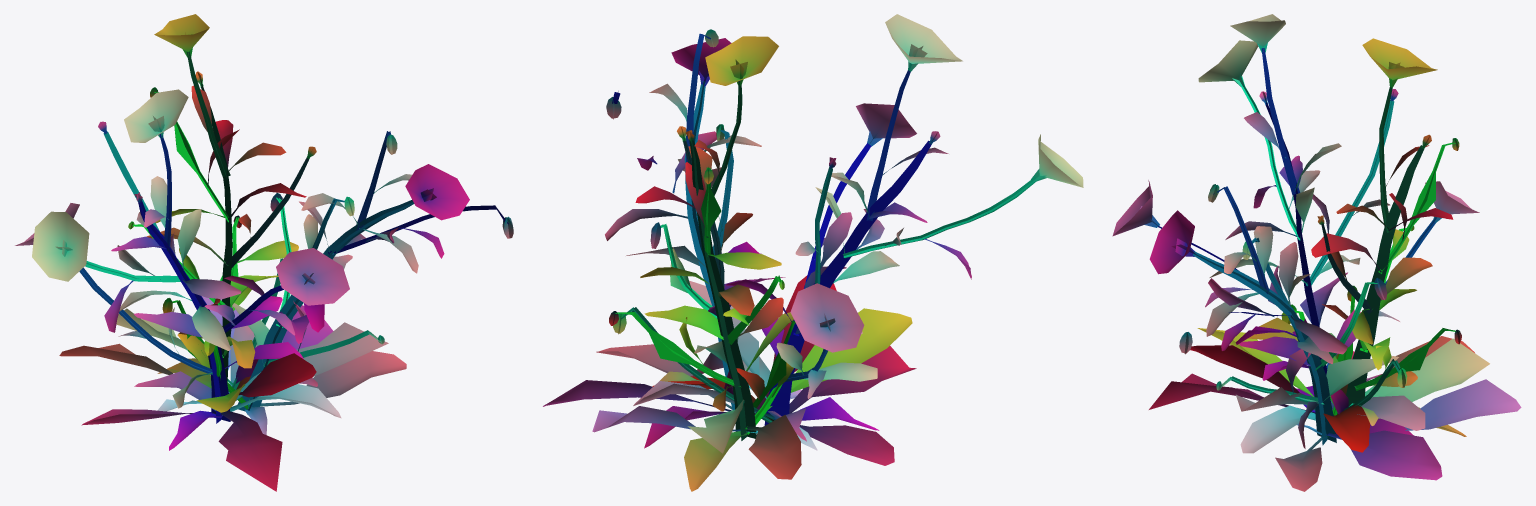
The model's file is Field_Poppy_vmcobd0ja_Low_vmcobd0ja_VarF_LOD0.fbx.
The picture shows the model from 3 angles, left to right: view 1: azimuth 30°, elevation 25°; view 2: azimuth 150°, elevation 25°; view 3: azimuth 270°, elevation 25°; orthographic projection. The views are drawn at different scales.
Parts seen in each view (by area): view 1: _i1dw_VarF_LOD2; view 2: _i1dw_VarF_LOD2; view 3: _i1dw_VarF_LOD2.
Part boxes in pixels (x1=…): _i1dw_VarF_LOD2: x1=15, y1=14, x2=513, y2=491; _i1dw_VarF_LOD2: x1=543, y1=14, x2=1083, y2=491; _i1dw_VarF_LOD2: x1=1112, y1=14, x2=1521, y2=491.
Size of the model in its own units: 63.71 by 50.93 by 49.28.
